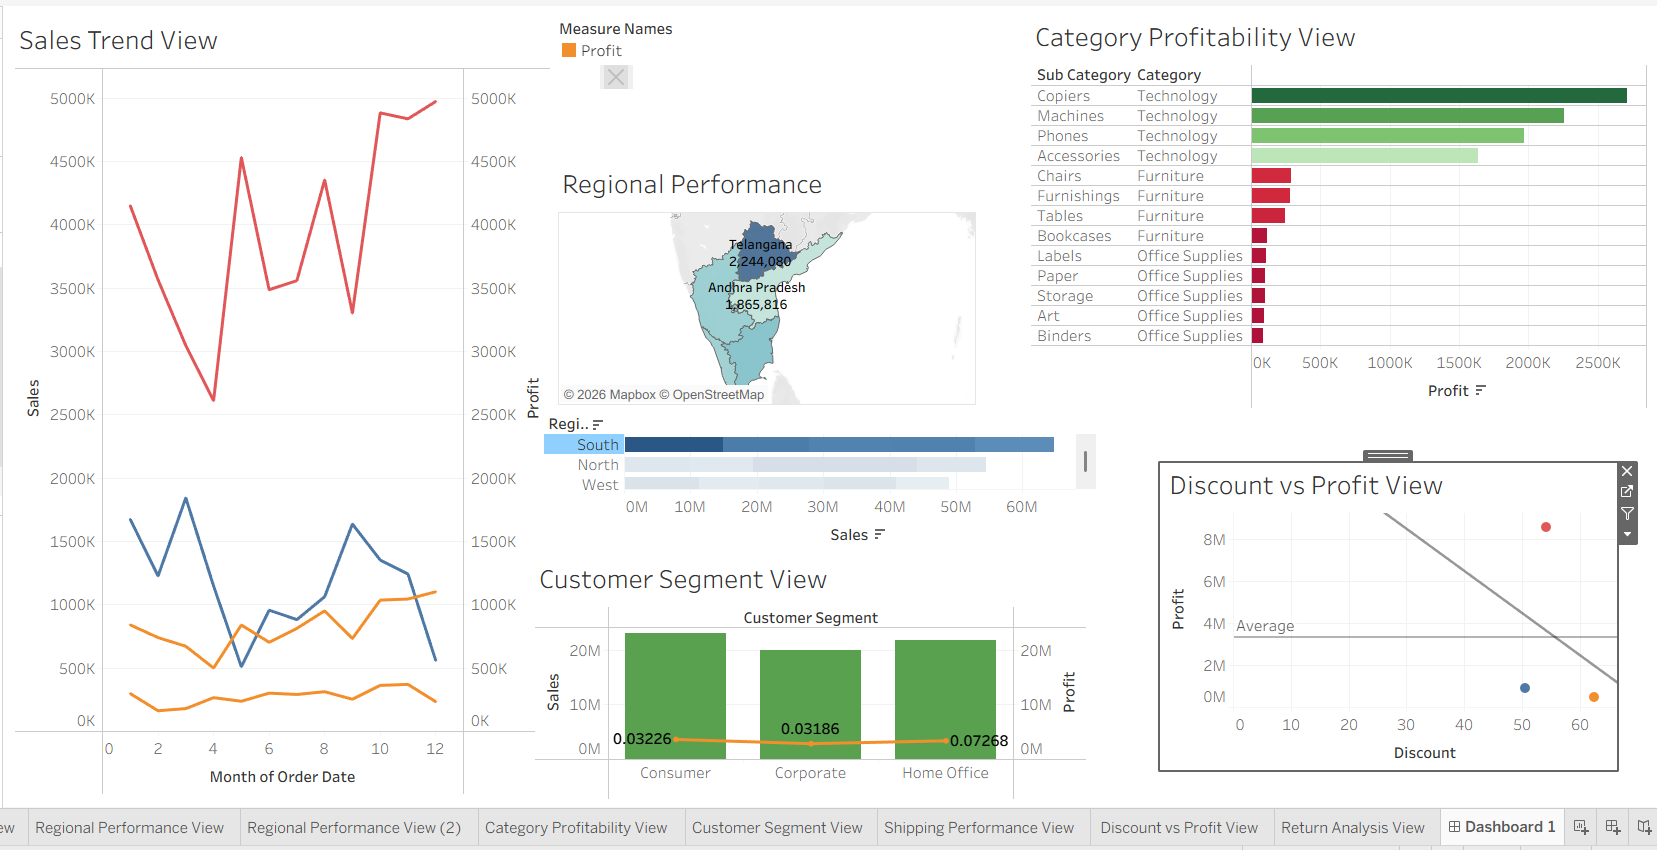

The page's visual inventory and layout, read from the dashboard file:
{"tool":"tableau","page":{"name":"Dashboard 1","canvas":[1000,1000],"units":"permille","ordinal":0},"visuals":[{"type":"worksheet","title":"Sales Trend View","mark":"Line","rows":["sales","profit"],"cols":["order_date"],"box":[4.8,10,328.3,980]},{"type":"legend","title":"Sales Trend View","param":"[federated.0xp89jr10o78d712qgw9305ejwiq].[:Measure Names]","box":[333.1,10,662,63.7]},{"type":"worksheet","title":"Category Profitability View","mark":"Automatic","rows":["sub_category","category"],"cols":["profit"],"box":[620.4,11.2,371.8,523.1]},{"type":"dashboard-object","box":[360,73.8,20,30]},{"type":"worksheet","title":"Regional Performance View","mark":"Multipolygon","box":[334.9,194.8,252.3,303.4]},{"type":"worksheet","title":"Regional Performance View (2)","mark":"Bar","rows":["region"],"cols":["sales"],"box":[326.5,509.4,333.1,172.3]},{"type":"worksheet","title":" Discount vs Profit View","mark":"Circle","rows":["profit"],"cols":["discount"],"box":[698.2,570.5,275.8,383.3]},{"type":"worksheet","title":"Customer Segment View","mark":"Automatic","rows":["sales","profit"],"cols":["customer_segment"],"box":[321.1,687.9,333.1,303.4]}]}

Visuals, with their boxes on the dashboard's canvas, which has no fixed pixel size, in thousandths of its width and height (x1, y1, x2, y2). These are canvas units, not pixel positions in the 1657x850 screenshot, which may show the page scaled, cropped or inside an application window:
"Sales Trend View" worksheet (Line marks): (left=5, top=10, right=333, bottom=990)
"Sales Trend View" legend: (left=333, top=10, right=995, bottom=74)
"Category Profitability View" worksheet: (left=620, top=11, right=992, bottom=534)
dashboard-object: (left=360, top=74, right=380, bottom=104)
"Regional Performance View" worksheet (Multipolygon marks): (left=335, top=195, right=587, bottom=498)
"Regional Performance View (2)" worksheet (Bar marks): (left=326, top=509, right=660, bottom=682)
" Discount vs Profit View" worksheet (Circle marks): (left=698, top=570, right=974, bottom=954)
"Customer Segment View" worksheet: (left=321, top=688, right=654, bottom=991)
